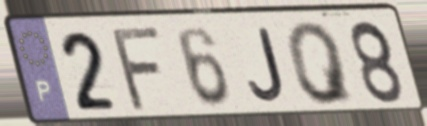2: (61, 28, 126, 116)
6: (176, 24, 231, 110)
8: (348, 18, 405, 106)
F: (110, 24, 167, 115)
J: (246, 25, 288, 105)
Q: (283, 19, 358, 108)
